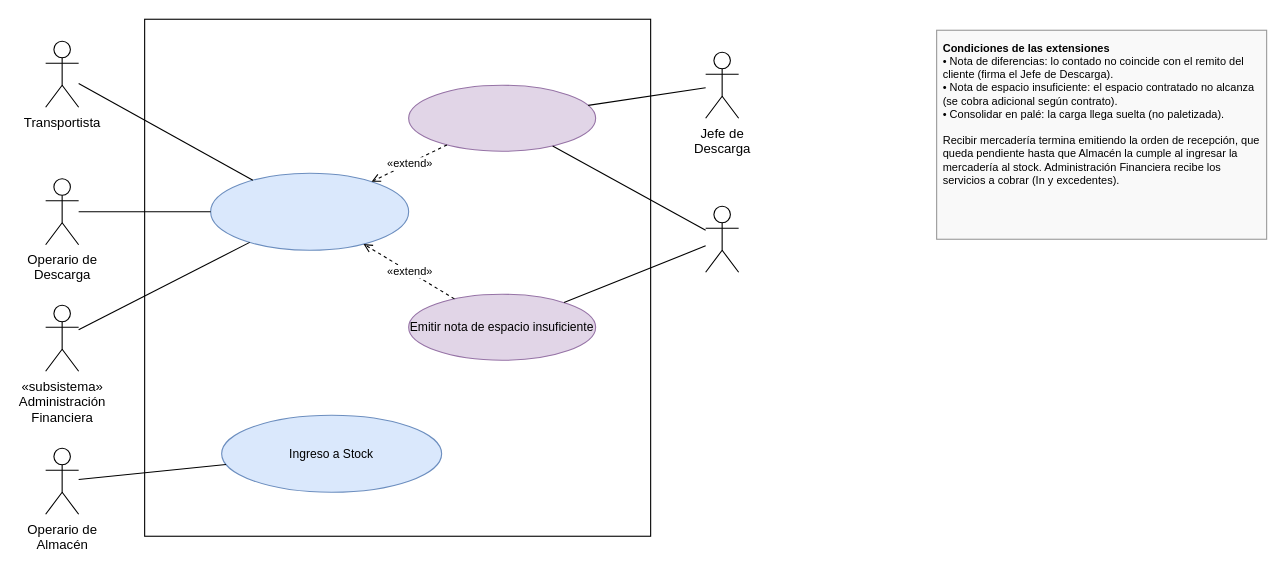
Some shapes in this 1286 by 573 pixel diagram are drawn without their labels. Each missing label, with the box of its shape:
Cliente: (705, 205, 739, 272)
Emitir nota de diferencias: (408, 84, 596, 151)
Gestionar ingreso de mercadería: (144, 18, 651, 536)
Recepción de Mercadería: (210, 172, 409, 250)
